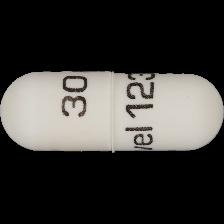63629-1621: (0, 0, 224, 224)
